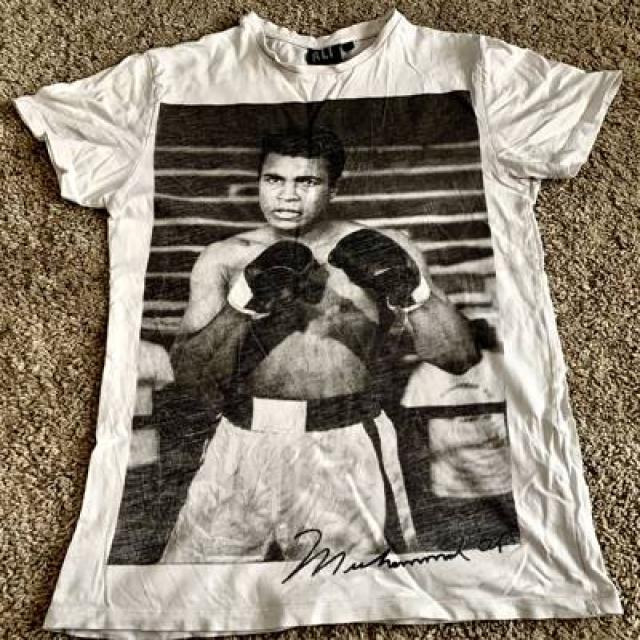shirt: (13, 10, 627, 638)
